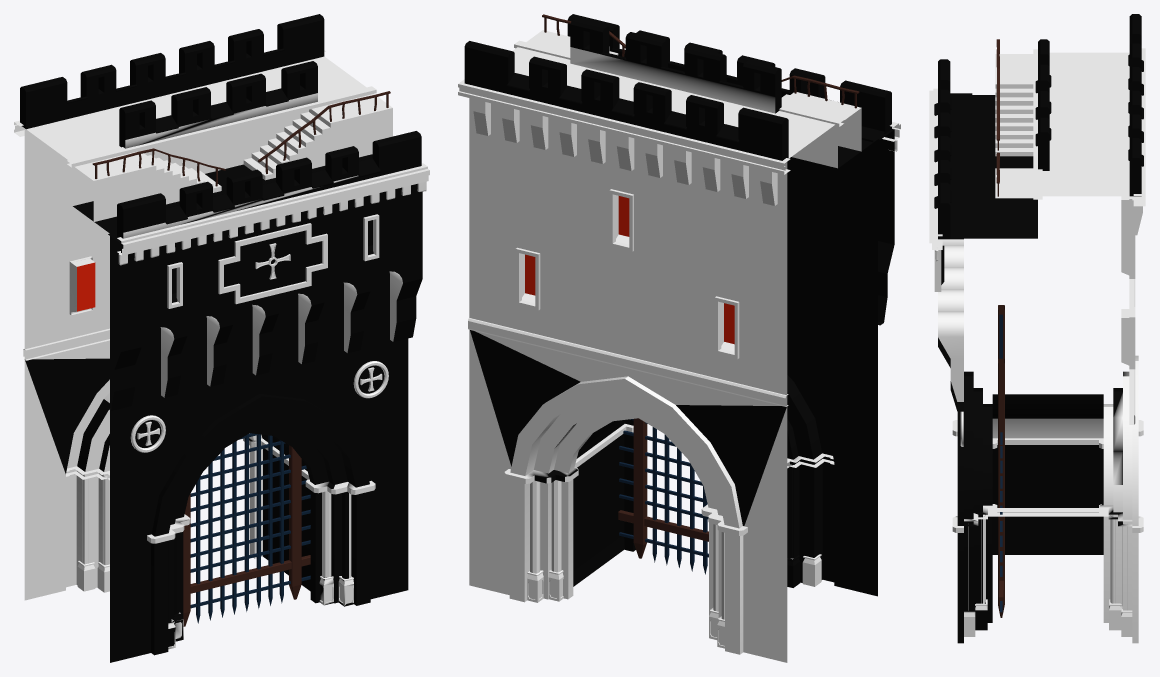
The model's file is citadel_gate.FBX.
3 renders of one model, left to right at view 1: azimuth 30°, elevation 25°; view 2: azimuth 150°, elevation 25°; view 3: azimuth 270°, elevation 25°, orthographic. The views are drawn at different scales.
Visible parts, largest first — view 1: citadel_gate; view 2: citadel_gate; view 3: citadel_gate.
Part boxes in pixels (<box>): citadel_gate: <box>14,14,429,662</box>; citadel_gate: <box>458,14,900,662</box>; citadel_gate: <box>929,14,1145,643</box>.
Size of the model in its own units: 1647 by 2626 by 1016.
